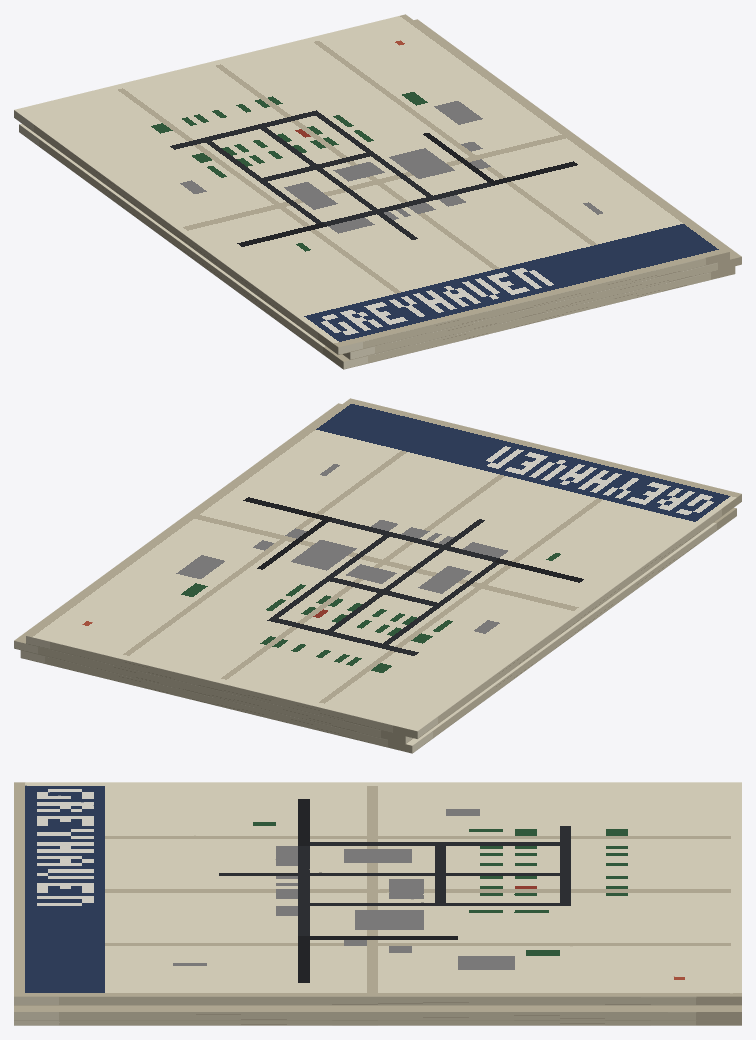
File: INV_TownMap.glb
The picture shows the model from 3 angles, top to bottom: view 1: azimuth 30°, elevation 25°; view 2: azimuth 150°, elevation 25°; view 3: azimuth 270°, elevation 25°; orthographic projection. The views are drawn at different scales.
Parts seen in each view (by area): view 1: INV_TownMap_Mesh; view 2: INV_TownMap_Mesh; view 3: INV_TownMap_Mesh.
Boxes of the visible parts, x1=… form: INV_TownMap_Mesh: x1=14, y1=14, x2=741, y2=369; INV_TownMap_Mesh: x1=14, y1=398, x2=741, y2=753; INV_TownMap_Mesh: x1=14, y1=782, x2=741, y2=1025.
Size of what is drawn, in the model's own units: 0.1185 by 0.0066 by 0.165.
1 material, 1 textured.
